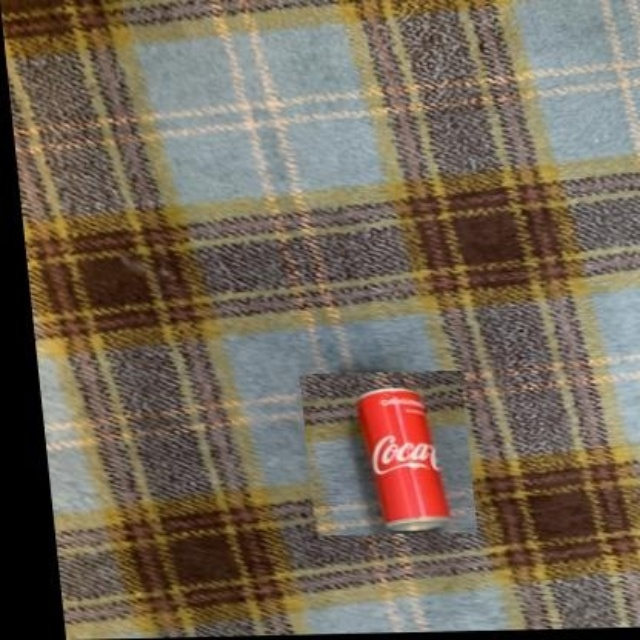trash: (357, 388, 448, 529)
